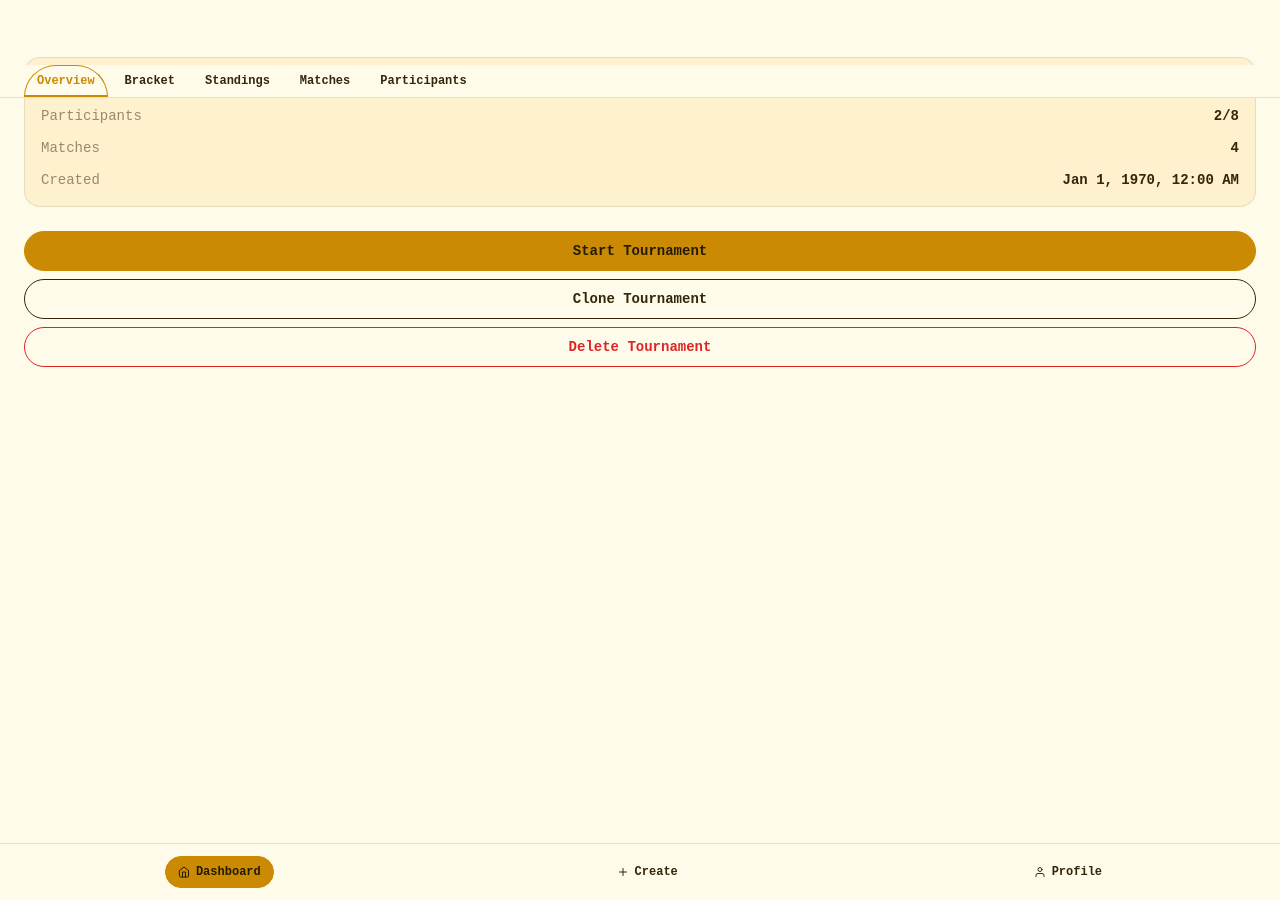
Test: TournamentDetailPage › renders a double-elimination bracket
Click the button "Bracket".
click(150, 81)  # box [112,65,188,97]
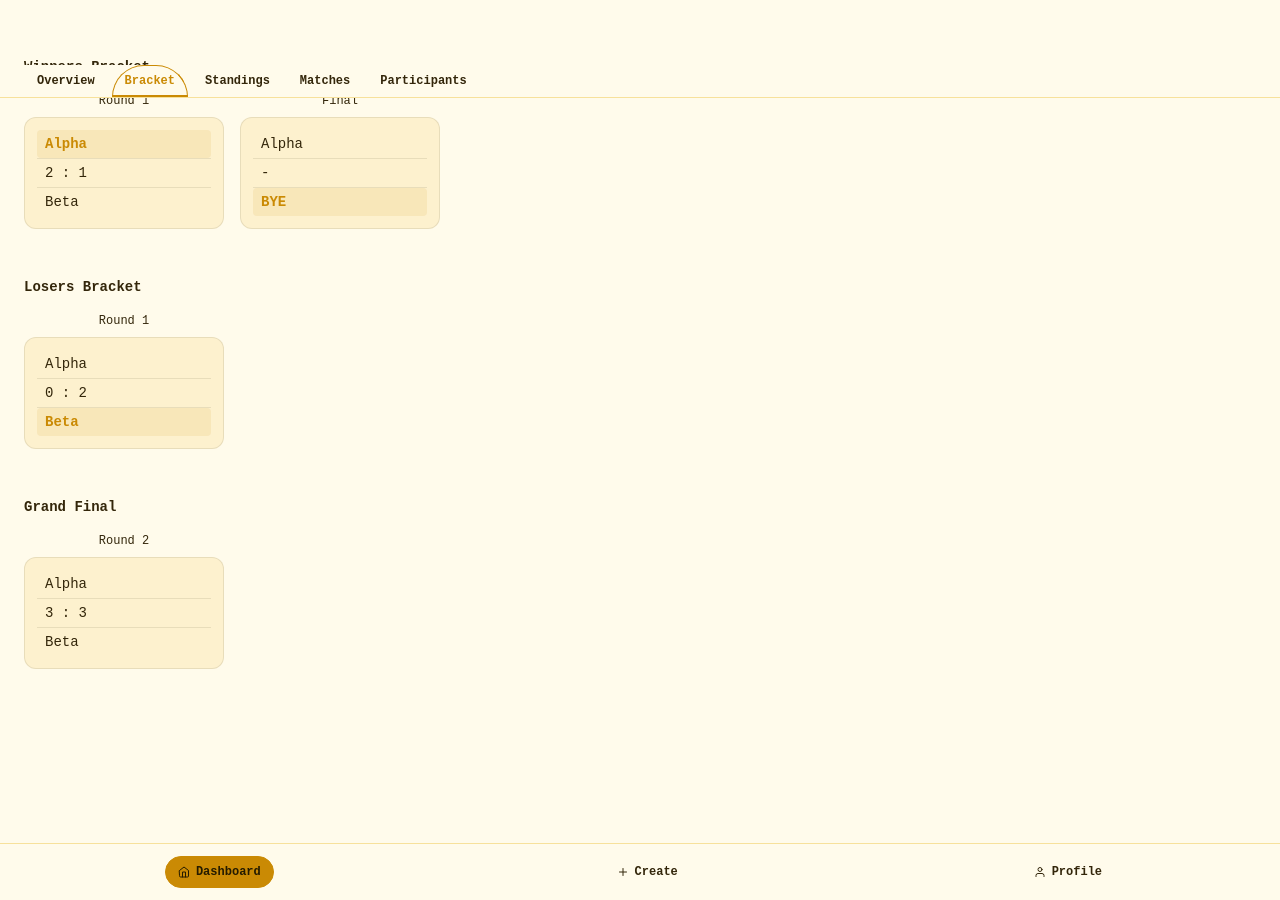
Now the heading "Winners Bracket" is shown, box [24,59,150,75]
Now the heading "Losers Bracket" is shown, box [24,279,142,295]
Now the heading "Grand Final" is shown, box [24,499,116,515]
